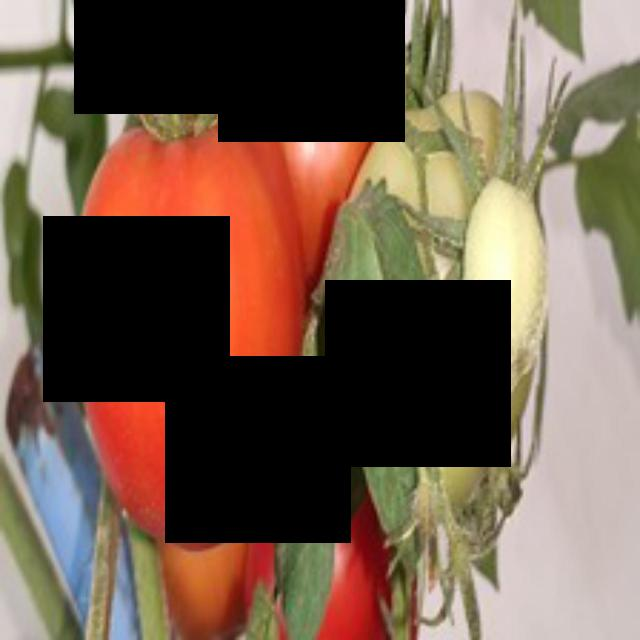tomato: (82, 105, 306, 543)
